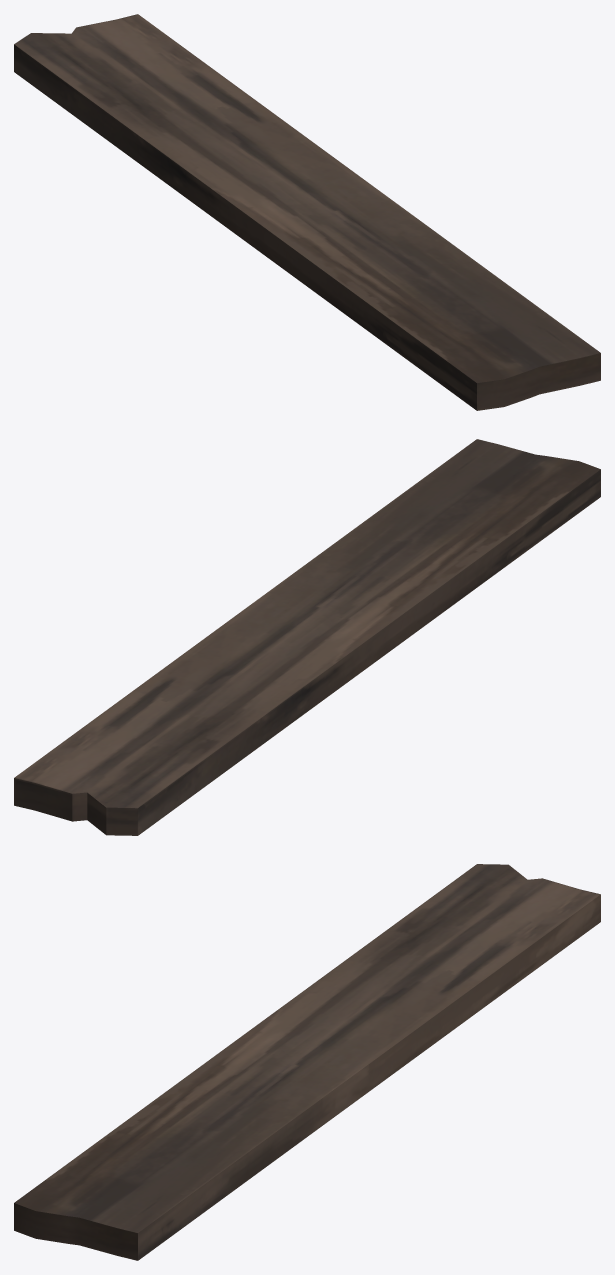
File: SM_WoodenPlank_02.fbx
3 views of the same model, one above another, from view 1: azimuth 30°, elevation 25°; view 2: azimuth 150°, elevation 25°; view 3: azimuth 330°, elevation 25° (orthographic).
Parts seen in each view (by area): view 1: SM_WoodenPlank_02_LOD0; view 2: SM_WoodenPlank_02_LOD0; view 3: SM_WoodenPlank_02_LOD0.
Boxes of the visible parts, x1,y1,x2,y2 form: SM_WoodenPlank_02_LOD0: [14, 14, 600, 410]; SM_WoodenPlank_02_LOD0: [14, 439, 600, 835]; SM_WoodenPlank_02_LOD0: [14, 864, 600, 1260].
Size of the model in its own units: 61.02 by 403 by 13.04.
Materials: 1 (1 with a texture image).
